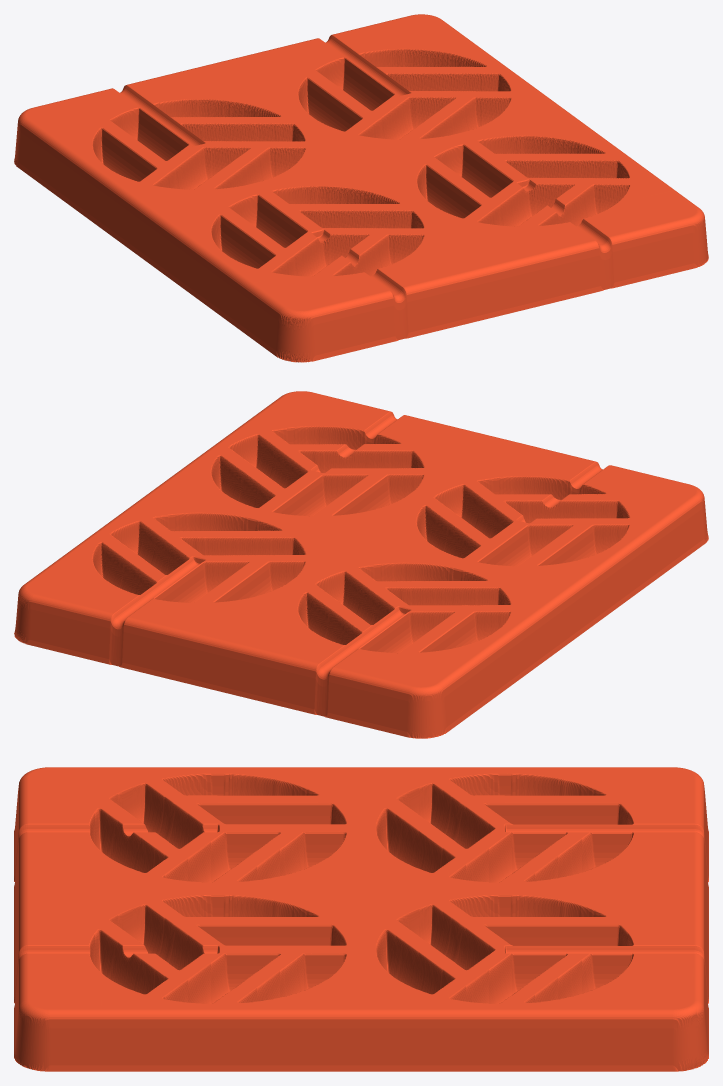
The model's file is mold.glb.
3 views of the same model, one above another, from view 1: azimuth 30°, elevation 25°; view 2: azimuth 150°, elevation 25°; view 3: azimuth 270°, elevation 25° (orthographic). The views are drawn at different scales.
Visible parts, largest first — view 1: geometry_0; view 2: geometry_0; view 3: geometry_0.
Part boxes in pixels (bbox=[...]): geometry_0: bbox=[14, 14, 708, 362]; geometry_0: bbox=[14, 391, 708, 738]; geometry_0: bbox=[14, 767, 708, 1071].
Size of the model in its own units: 0.1497 by 0.0155 by 0.1735.
